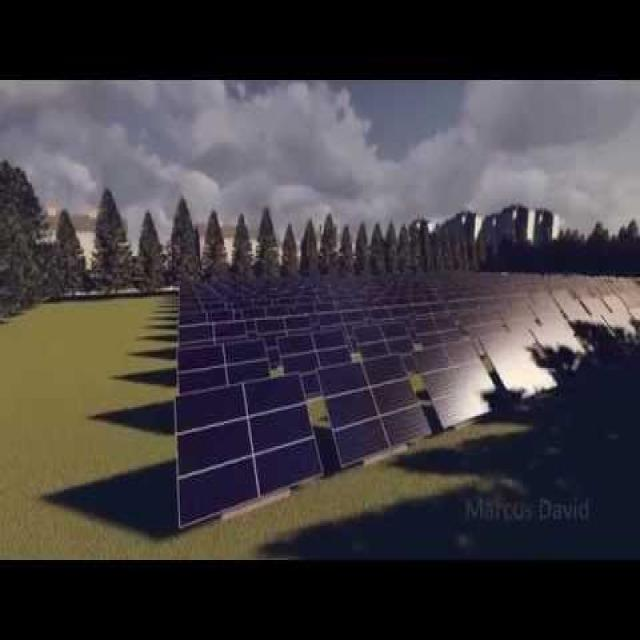clean-solar-panel: (180, 460, 256, 523)
